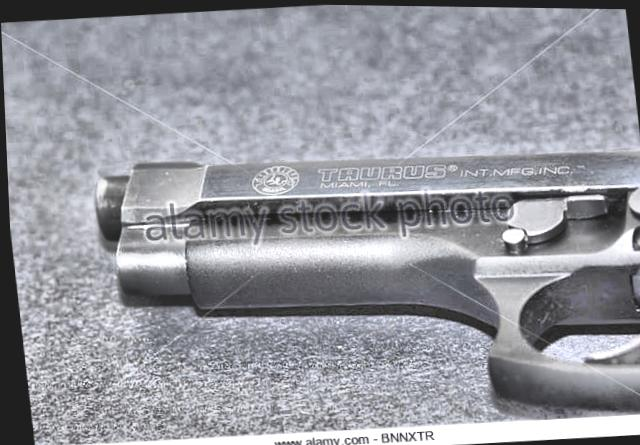pistol: (84, 117, 640, 444)
